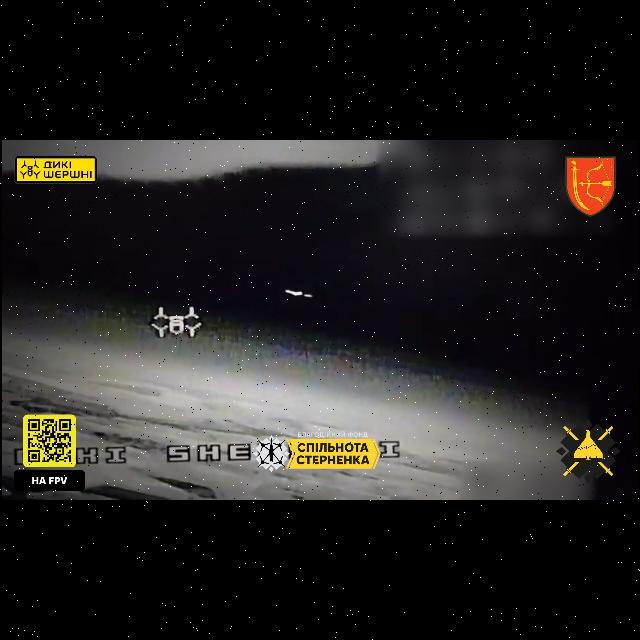Gerbera: (285, 289, 313, 297)
